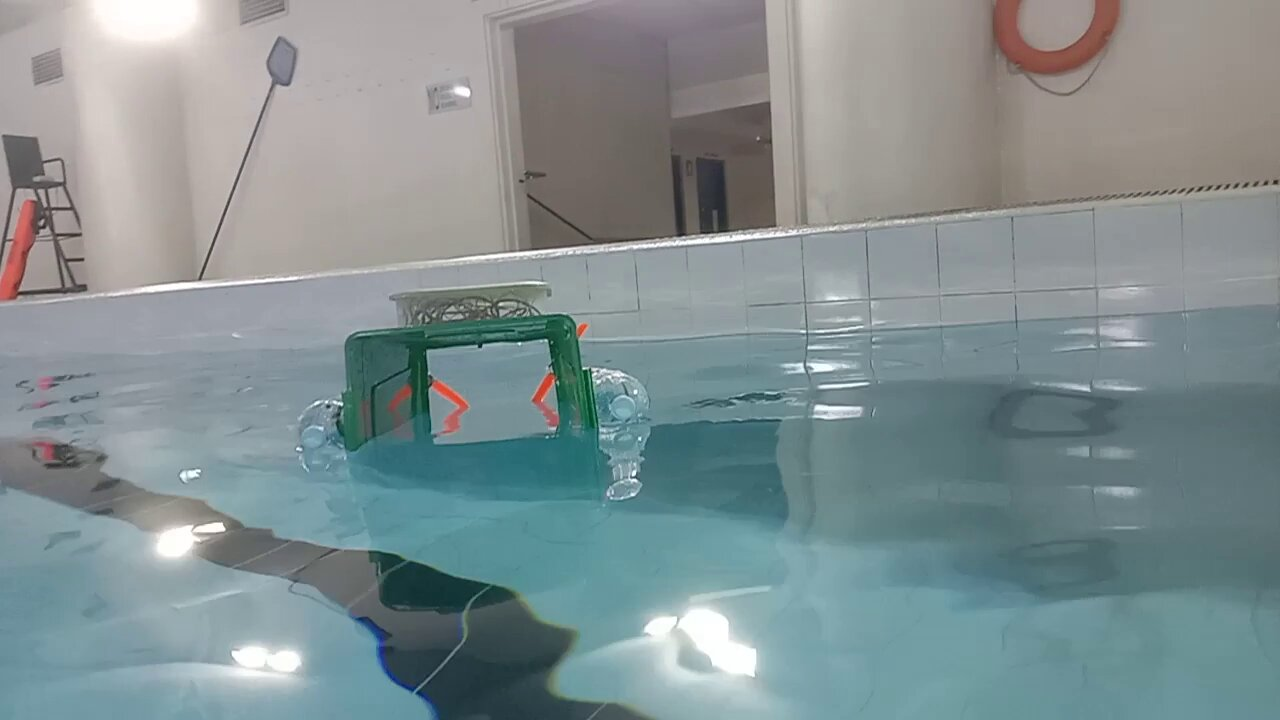drone: (294, 278, 652, 454)
